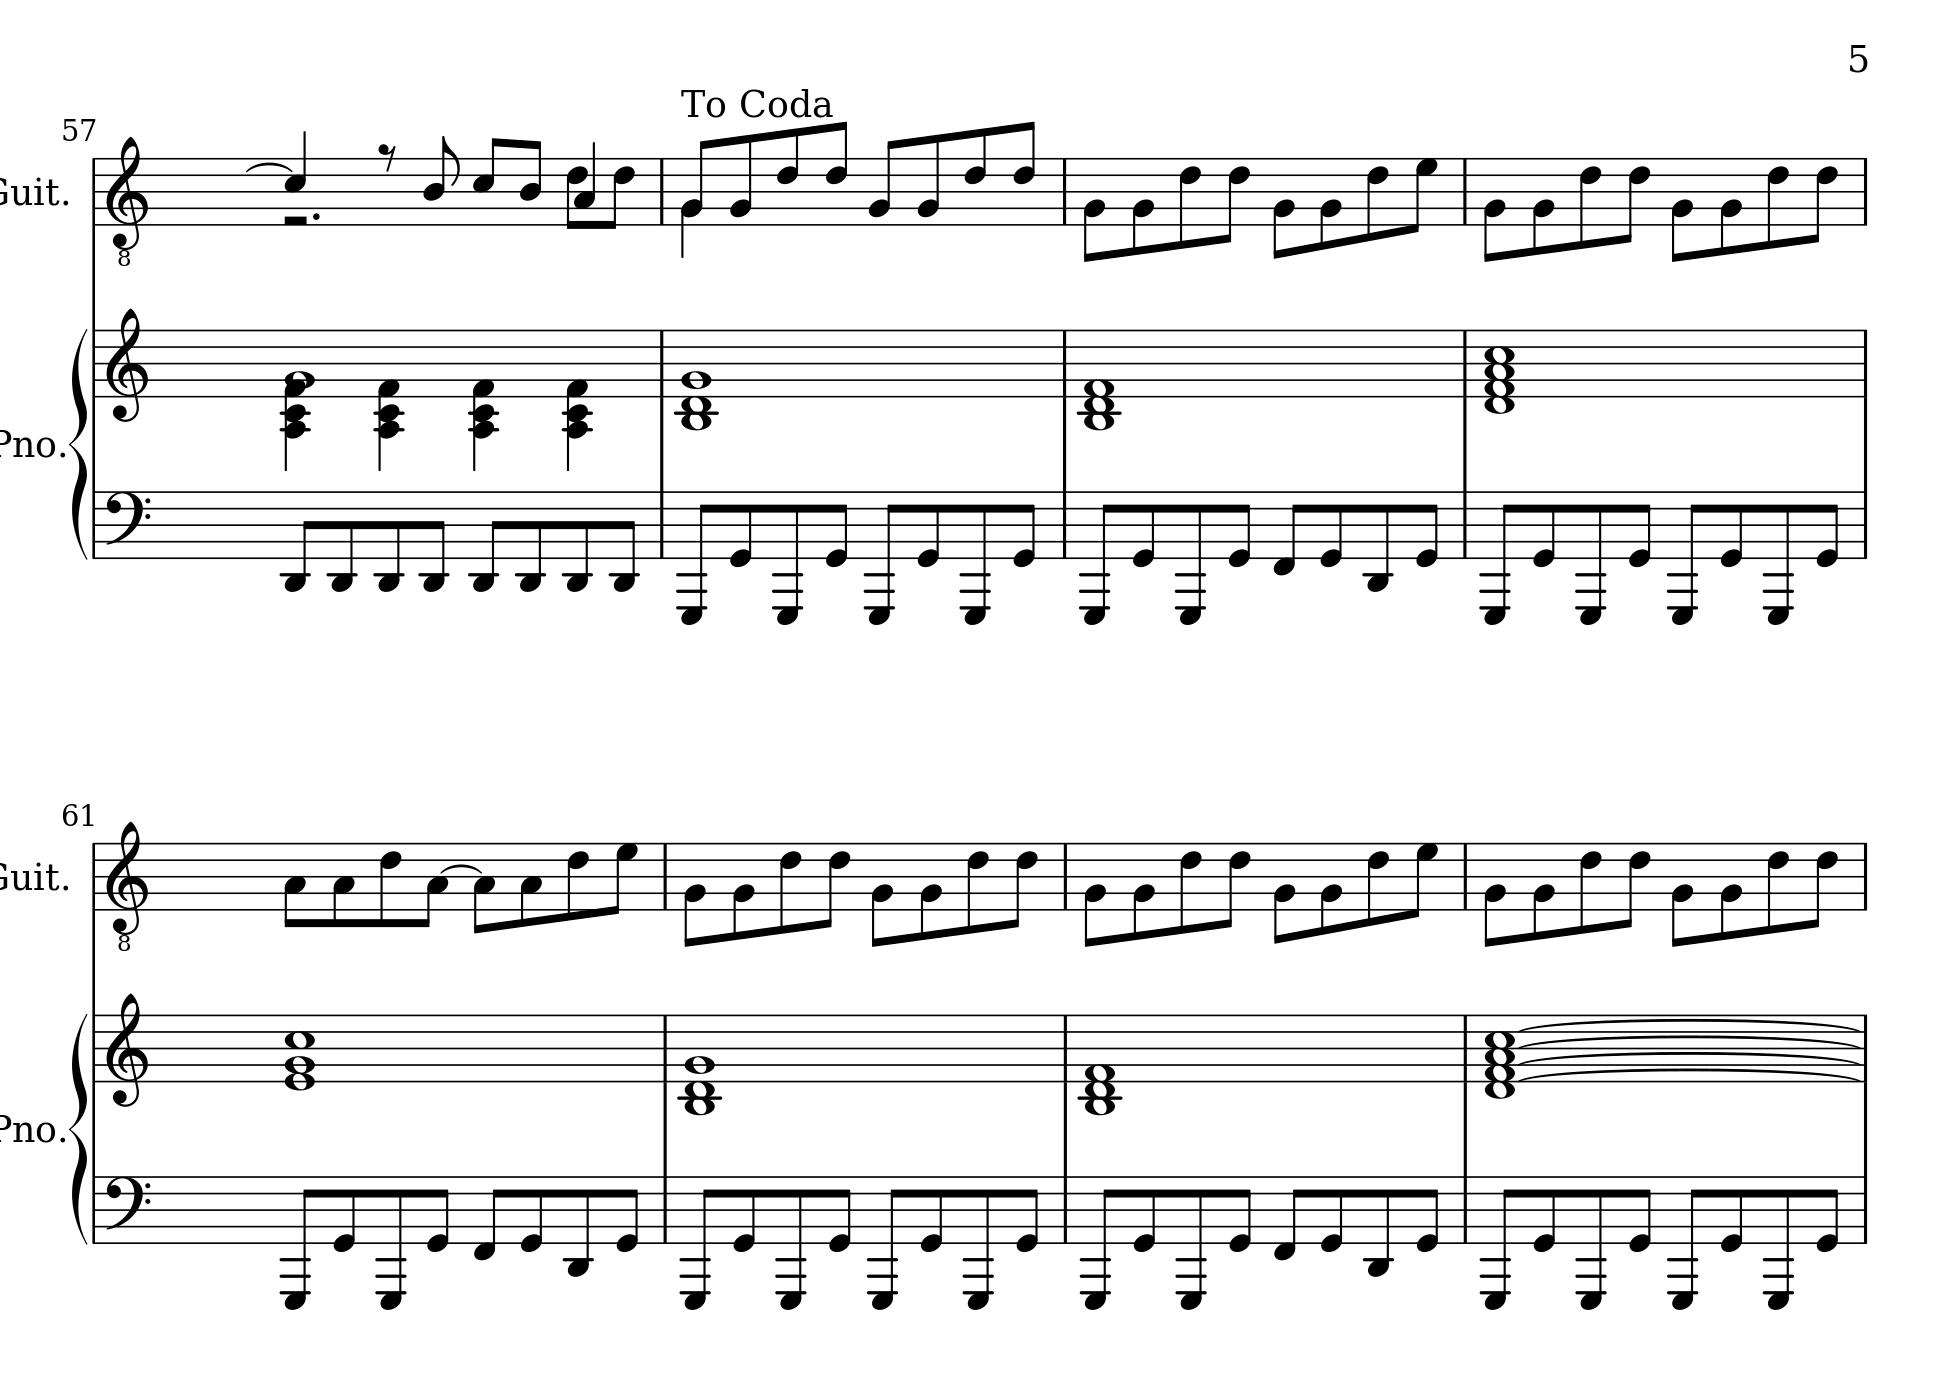1: (81, 799, 94, 829)
1_4th: (1483, 328, 1515, 415), (1485, 1012, 1515, 1101)
1_th: (673, 328, 718, 430), (678, 1012, 721, 1114), (1080, 327, 1122, 430), (1080, 1014, 1122, 1114), (282, 1012, 318, 1092)
4_5: (283, 129, 307, 229)
4_th: (279, 327, 313, 471), (372, 327, 405, 472), (466, 327, 499, 472), (559, 327, 592, 471)
5: (1848, 39, 1870, 75)
6: (61, 798, 79, 829)
8_-1: (1269, 1173, 1308, 1261), (1269, 487, 1306, 576), (469, 1173, 507, 1260)
8_-3: (280, 489, 316, 594), (469, 489, 505, 592), (516, 487, 547, 592), (562, 487, 594, 592), (373, 489, 405, 592), (418, 489, 450, 592), (1363, 489, 1395, 592), (610, 489, 640, 594), (328, 489, 358, 592), (564, 1174, 594, 1276), (1365, 1174, 1395, 1276)
8_-7: (1479, 487, 1519, 625), (1080, 486, 1119, 625), (679, 1171, 718, 1311), (867, 1173, 906, 1312), (676, 487, 715, 625), (864, 489, 903, 627), (1668, 487, 1707, 625), (280, 1173, 319, 1311), (1080, 1171, 1119, 1309), (1480, 1173, 1519, 1311), (1668, 1173, 1707, 1311), (960, 487, 993, 627), (1575, 487, 1608, 625), (1764, 487, 1795, 627), (772, 487, 804, 625), (1176, 487, 1207, 625), (1177, 1171, 1209, 1309), (1576, 1173, 1608, 1311), (963, 1174, 994, 1311), (775, 1174, 807, 1309), (1765, 1171, 1795, 1312), (376, 1174, 406, 1311)
8_0: (517, 1173, 547, 1252), (613, 1173, 643, 1252), (1318, 487, 1347, 568), (1414, 487, 1443, 568), (1626, 487, 1654, 568), (1626, 1173, 1654, 1254), (1227, 1173, 1255, 1252), (1318, 1173, 1347, 1252), (1414, 1173, 1443, 1252), (1531, 1173, 1560, 1252), (424, 1171, 451, 1254), (730, 1171, 757, 1254), (727, 487, 754, 568), (915, 487, 942, 568), (1011, 487, 1038, 568), (1131, 487, 1158, 568), (1227, 487, 1254, 568), (1531, 487, 1558, 568), (1815, 487, 1842, 568), (331, 1173, 358, 1254), (826, 1173, 853, 1254), (918, 1173, 945, 1254), (823, 489, 850, 568), (1719, 489, 1746, 568), (1014, 1173, 1041, 1252), (1719, 1174, 1746, 1254), (1815, 1174, 1842, 1252), (1132, 1173, 1158, 1254)
8_2: (1669, 840, 1698, 951), (1482, 840, 1509, 951), (1081, 156, 1108, 265), (1482, 156, 1509, 265), (1669, 156, 1696, 265), (682, 841, 709, 949), (1083, 841, 1108, 951), (870, 841, 895, 949), (1530, 840, 1557, 942), (867, 138, 897, 229), (1272, 156, 1297, 262), (1530, 156, 1557, 256), (1719, 841, 1746, 942), (1272, 841, 1297, 946), (1719, 156, 1744, 258), (918, 840, 943, 942), (727, 132, 754, 228), (1131, 156, 1156, 256), (730, 841, 756, 942), (1131, 841, 1156, 942), (915, 133, 940, 229), (1318, 841, 1344, 936), (1318, 157, 1344, 250)
8_3: (417, 840, 448, 930), (282, 840, 307, 930), (472, 840, 496, 934), (331, 840, 357, 928), (519, 840, 544, 928)
8_4: (421, 133, 460, 226), (517, 138, 543, 226)
8_5: (472, 136, 502, 226)
8_6: (1620, 154, 1654, 244), (1807, 154, 1842, 244), (1620, 840, 1654, 930), (1807, 840, 1842, 930), (819, 840, 853, 928), (1221, 154, 1254, 244), (1008, 838, 1041, 928), (1221, 840, 1254, 928), (961, 124, 990, 226), (775, 124, 802, 228), (823, 118, 849, 228), (1012, 118, 1036, 226), (1764, 154, 1791, 250), (1764, 840, 1791, 936), (964, 840, 991, 934), (1177, 154, 1203, 250), (1578, 154, 1603, 250), (1179, 838, 1204, 934), (1578, 840, 1603, 936), (565, 151, 595, 232), (376, 840, 403, 930), (777, 840, 802, 934), (604, 156, 636, 229), (1365, 840, 1390, 928), (1365, 156, 1390, 243), (565, 840, 589, 922)
8_7: (1407, 156, 1438, 235), (1407, 841, 1438, 919), (607, 841, 637, 916)
Brace: (67, 1009, 90, 1243), (69, 325, 88, 562)
Fclef: (102, 487, 151, 559), (103, 1173, 153, 1239)
Gclef: (103, 990, 151, 1108), (103, 304, 150, 423)
Guit: (1, 853, 61, 900), (1, 171, 60, 210)
Lower_Gclef: (103, 817, 150, 952), (103, 133, 148, 267)
Pno: (1, 1108, 55, 1150), (1, 426, 55, 463)
Rests2: (280, 211, 309, 229)
Rests8: (375, 139, 399, 172)
Single_barline: (1053, 328, 1080, 394), (1056, 1012, 1080, 1080), (1053, 157, 1075, 225), (651, 330, 673, 396), (1056, 1174, 1077, 1243), (655, 1014, 676, 1078), (1056, 490, 1075, 558), (654, 157, 673, 223), (657, 841, 675, 910), (657, 1174, 675, 1243), (654, 490, 670, 559), (1458, 841, 1474, 910), (1458, 157, 1474, 225), (1059, 841, 1075, 909), (1860, 1012, 1875, 1084), (1858, 841, 1873, 912), (1458, 1174, 1473, 1245), (1458, 490, 1473, 559), (88, 490, 103, 558), (1458, 328, 1473, 394), (1458, 1012, 1473, 1078), (1858, 156, 1872, 228), (87, 157, 100, 226), (1858, 328, 1872, 397), (1858, 490, 1872, 559), (87, 841, 100, 910), (88, 1012, 102, 1081), (88, 1174, 102, 1243), (1858, 1174, 1872, 1243), (88, 328, 102, 396), (393, 1195, 406, 1242)
Slur: (1519, 1066, 1864, 1081), (1516, 1051, 1864, 1063), (1519, 1018, 1863, 1030), (1524, 1036, 1864, 1048), (244, 160, 292, 172), (439, 862, 483, 873)
ToCoda: (676, 82, 837, 121)
dot: (310, 208, 322, 222)
